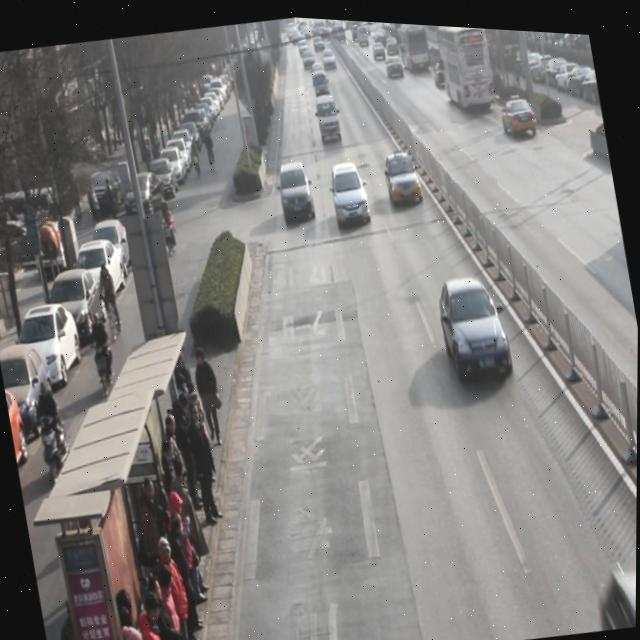car: (434, 264, 515, 379), (327, 153, 372, 223), (274, 151, 318, 221), (381, 143, 424, 203), (498, 87, 539, 134), (384, 46, 405, 77), (431, 54, 453, 82)
truck: (313, 88, 343, 140), (311, 64, 332, 100)
van: (433, 20, 496, 107)
